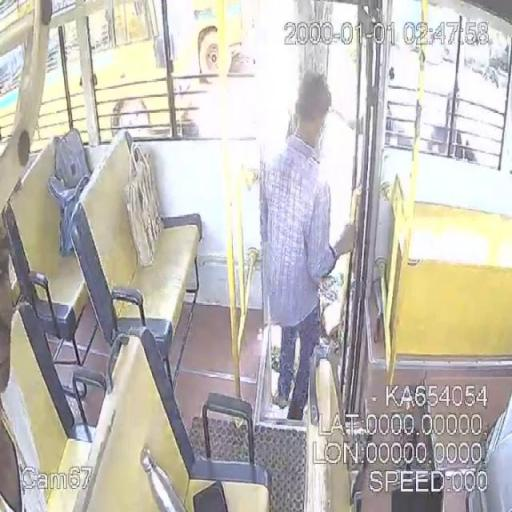persona: (257, 70, 360, 420)
